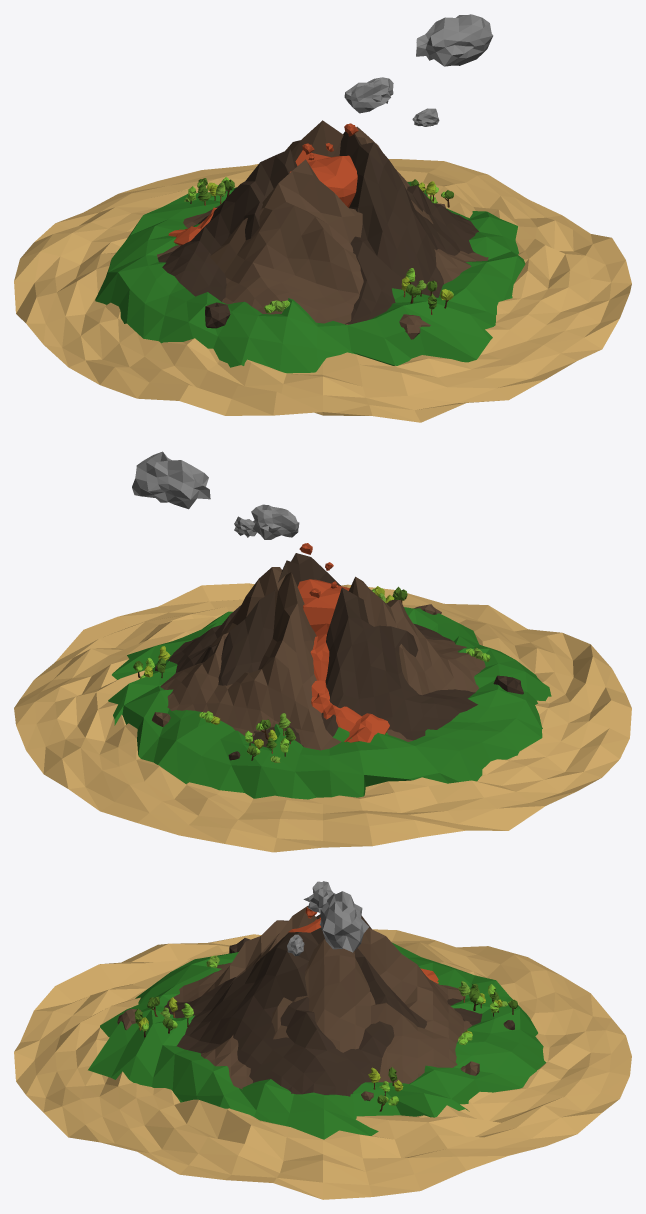
Rendered from VolcanIsland.fbx.
3 views of the same model, one above another, from view 1: azimuth 30°, elevation 25°; view 2: azimuth 150°, elevation 25°; view 3: azimuth 270°, elevation 25° (orthographic).
Parts seen in each view (by area): view 1: Plage, Montagne, Herbe, nuage3, Lave.2, nuage1; view 2: Plage, Montagne, Herbe, nuage3, Lave.2, nuage1, CouléeLave4, CouléeLave1, CouléeLave3; view 3: Plage, Montagne, Herbe, nuage3, nuage1.
Part boxes in pixels (<box>): Plage: <box>14,159,631,422</box>; Montagne: <box>157,120,488,324</box>; Herbe: <box>95,181,525,373</box>; nuage3: <box>416,14,493,66</box>; Lave.2: <box>289,150,357,207</box>; nuage1: <box>344,77,393,113</box>; Plage: <box>14,583,631,852</box>; Montagne: <box>160,553,485,750</box>; Herbe: <box>108,607,551,799</box>; nuage3: <box>132,451,210,509</box>; Lave.2: <box>297,579,349,636</box>; nuage1: <box>251,504,299,539</box>; CouléeLave4: <box>344,713,389,742</box>; CouléeLave1: <box>310,633,329,681</box>; CouléeLave3: <box>323,703,361,731</box>; Plage: <box>14,929,631,1199</box>; Montagne: <box>164,906,482,1096</box>; Herbe: <box>88,942,545,1139</box>; nuage3: <box>319,891,368,952</box>; nuage1: <box>303,881,333,913</box>.
Bounding box in the file's own units: 7921 × 3550 × 7928.
